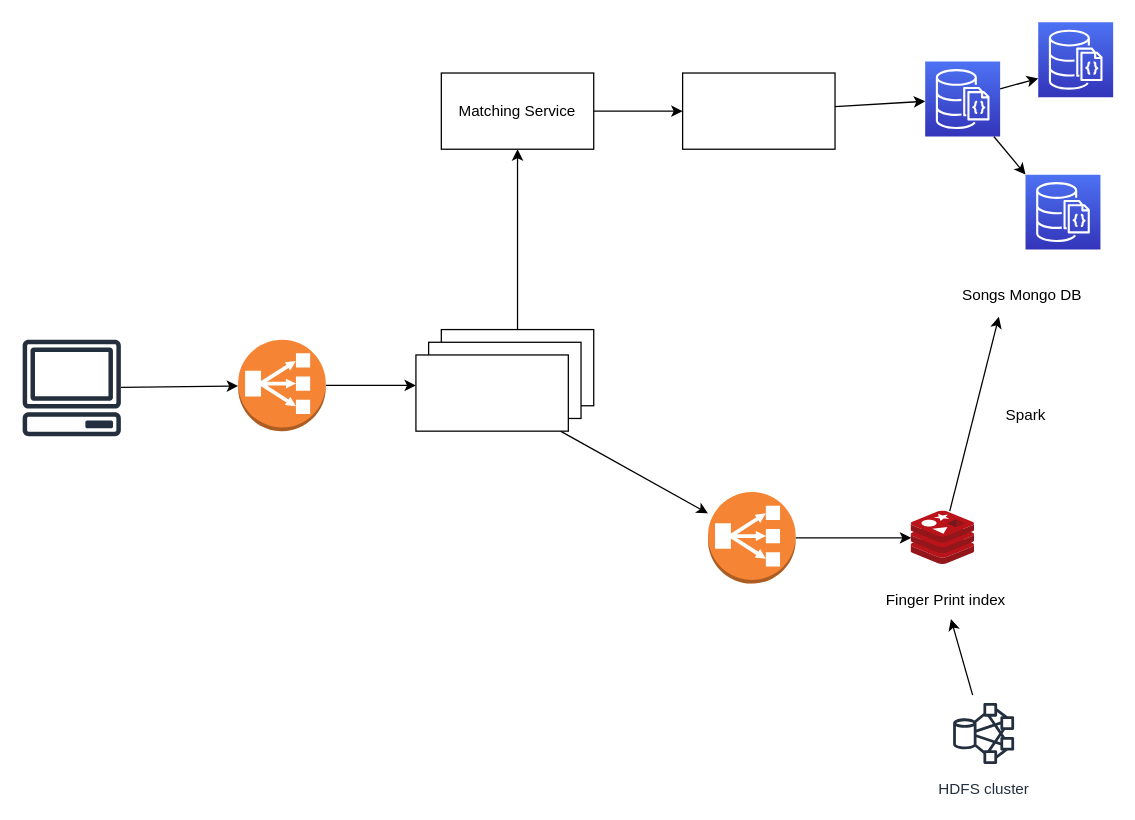
Some shapes in this 1135 by 820 pixel diagram are drawn without their labels. The shapes that lost their labels are listed below. From the top down, each one's box as (x1, y1, x2, y2) in pixels, then its label:
(681, 72, 835, 149): FingerPrint Cache
(415, 354, 568, 431): Recognition Service
